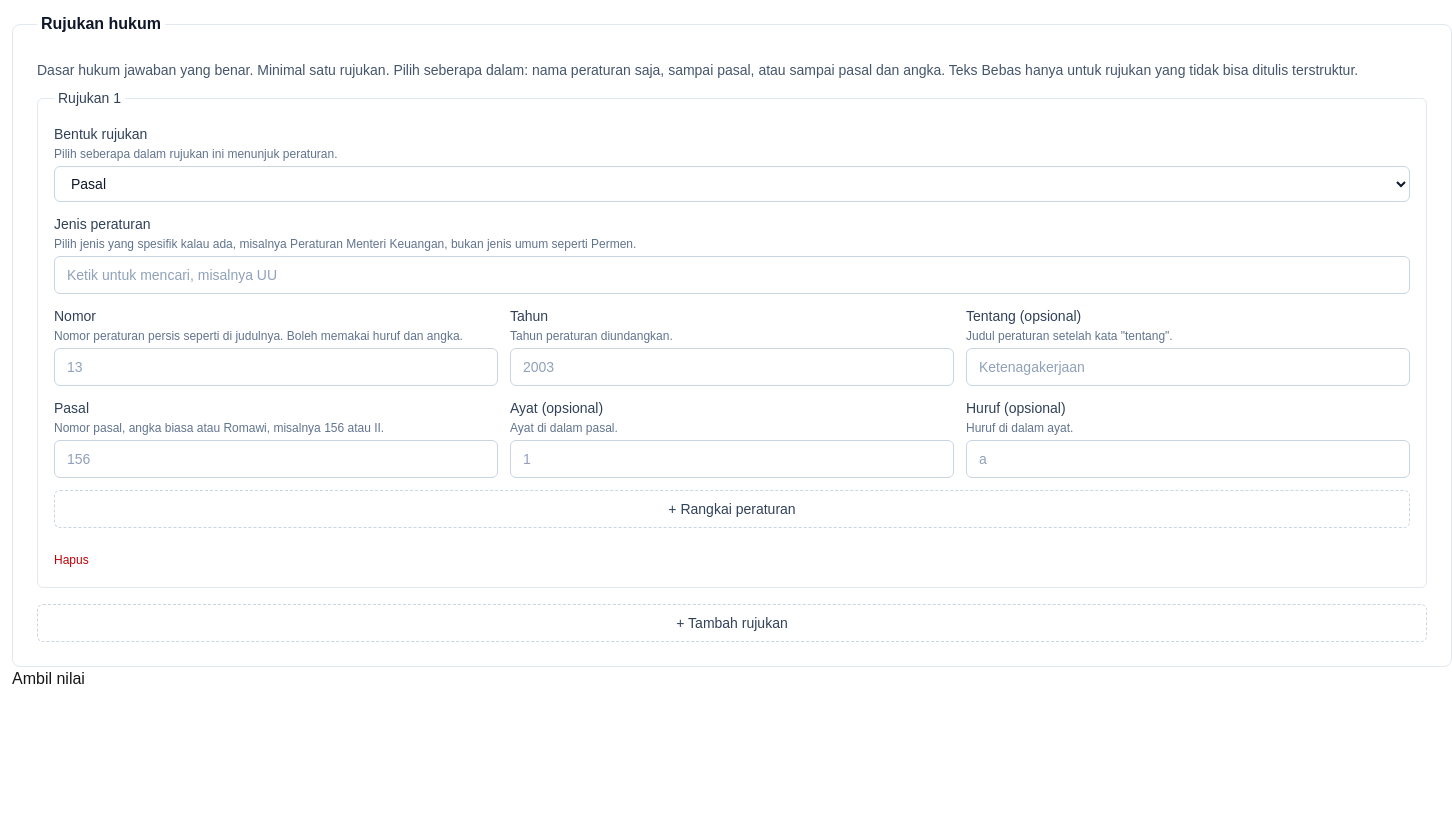
Test case: LegalRefsSection › hides pasal, angka, ayat and huruf for the name-only form but keeps the regulation fields
Select "Nama Peraturan saja" in the dropdown labelled "Bentuk rujukan": (732, 184) [54,166,1410,202]
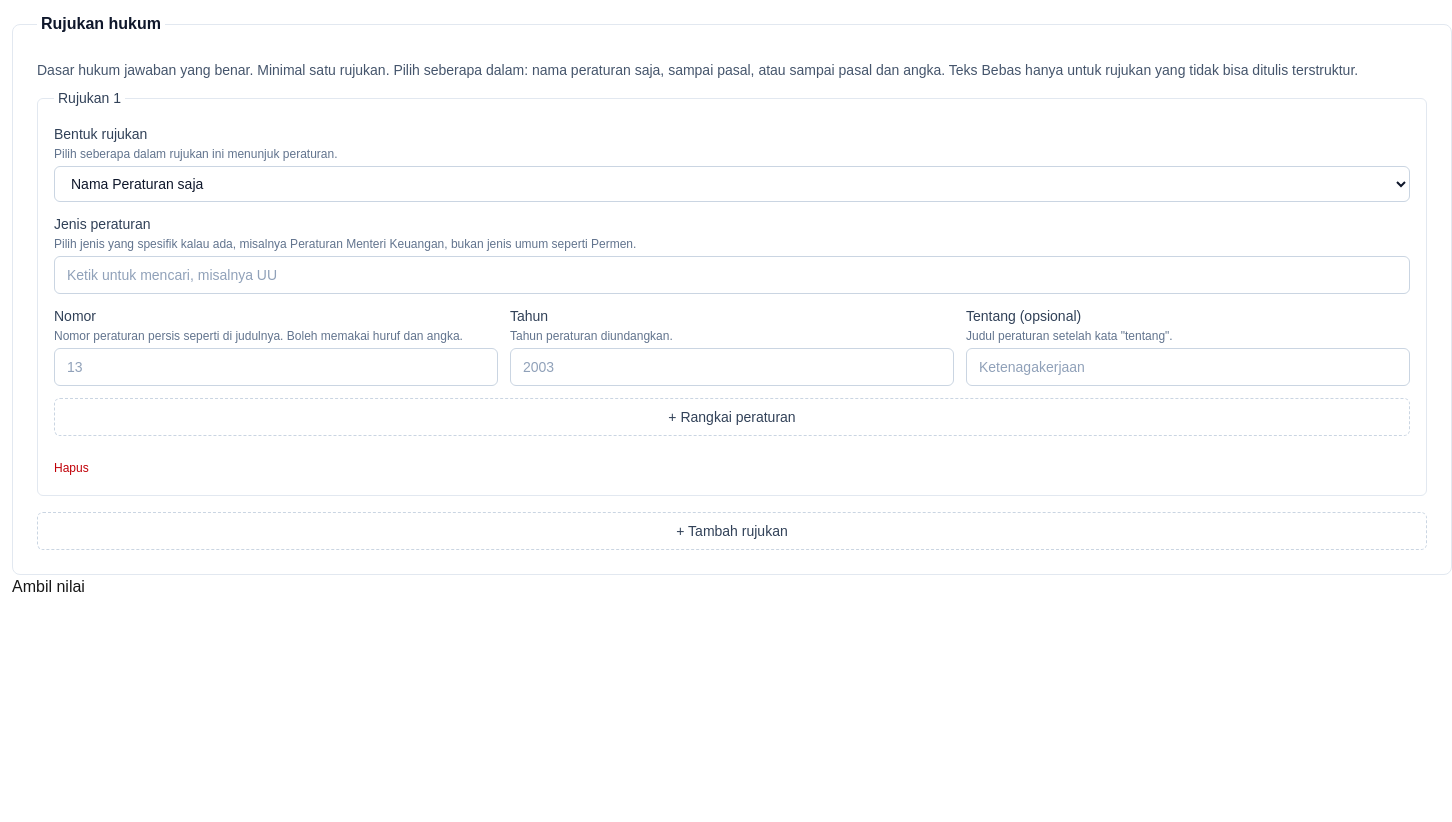
Expected: the field labelled "Pasal" is not shown
Now the label labelled "Ayat (opsional)" is gone
Now the label labelled "Huruf (opsional)" is gone
